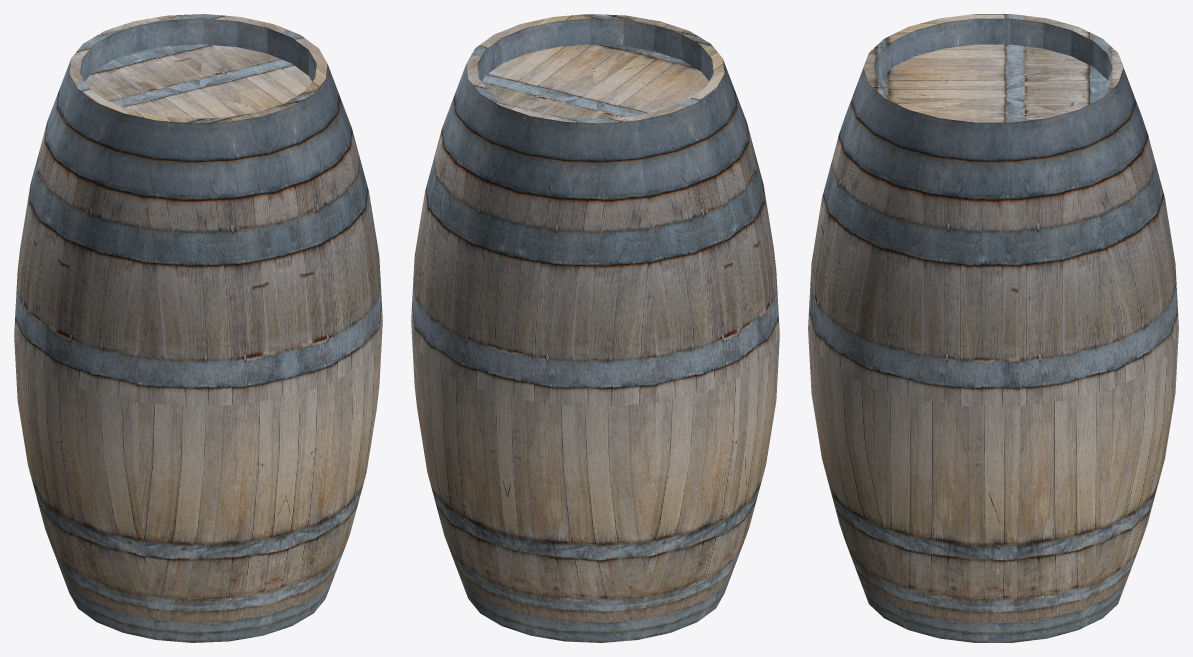
File: barrel.obj
The picture shows the model from 3 angles, left to right: view 1: azimuth 30°, elevation 25°; view 2: azimuth 150°, elevation 25°; view 3: azimuth 270°, elevation 25°; orthographic projection.
Parts seen in each view (by area): view 1: Cylinder; view 2: Cylinder; view 3: Cylinder.
Part boxes in pixels (<box>): Cylinder: <box>14,14,382,642</box>; Cylinder: <box>411,14,779,642</box>; Cylinder: <box>808,14,1178,642</box>.
Bounding box in the file's own units: 0.9898 × 1.55 × 1.
1 material, 1 textured.
